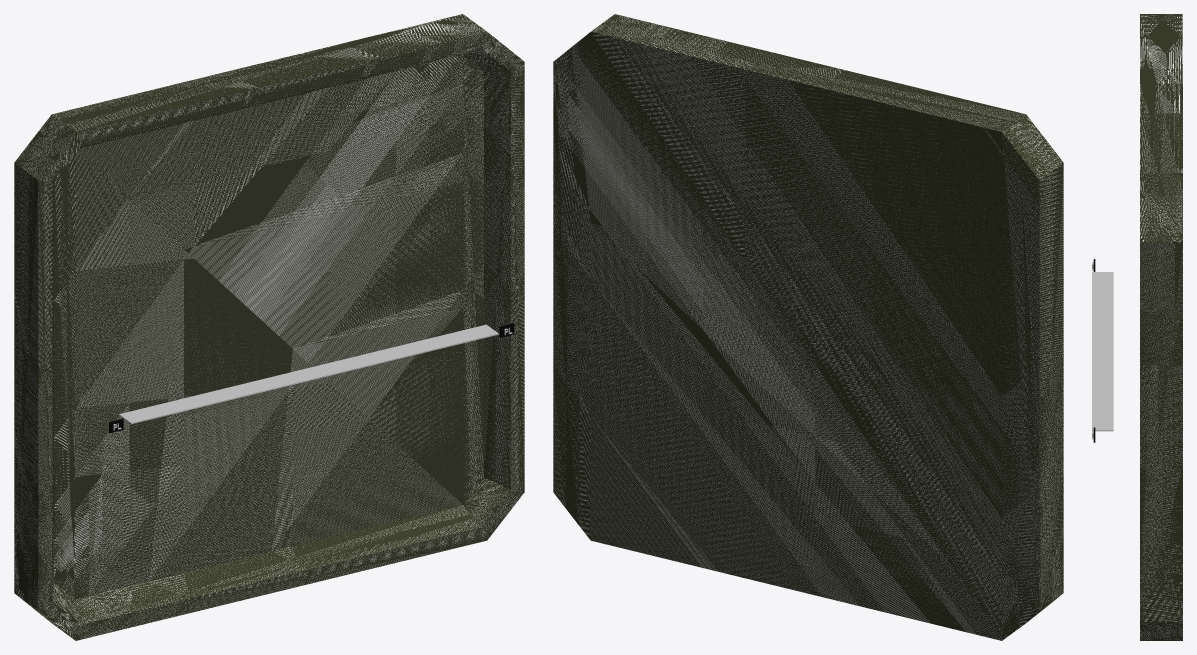
3 views of the same model, side by side, from view 1: azimuth 30°, elevation 25°; view 2: azimuth 150°, elevation 25°; view 3: azimuth 270°, elevation 25° (orthographic). The views are drawn at different scales.
Visible parts, largest first — view 1: Button.001_ID13, Button_ID3, SM_CM_-_PL_path1763-2.095; view 2: Button_ID3; view 3: Button_ID3, SM_CM_-_PL_path1763-2.095.
Boxes of the visible parts, x1,y1,x2,y2 form: Button.001_ID13: [52, 48, 510, 624]; Button_ID3: [14, 14, 524, 640]; SM_CM_-_PL_path1763-2.095: [109, 323, 514, 432]; Button_ID3: [553, 14, 1063, 640]; Button_ID3: [1140, 14, 1182, 640]; SM_CM_-_PL_path1763-2.095: [1092, 259, 1113, 442].
Bounding box in the file's own units: 1 × 1 × 0.1832.
